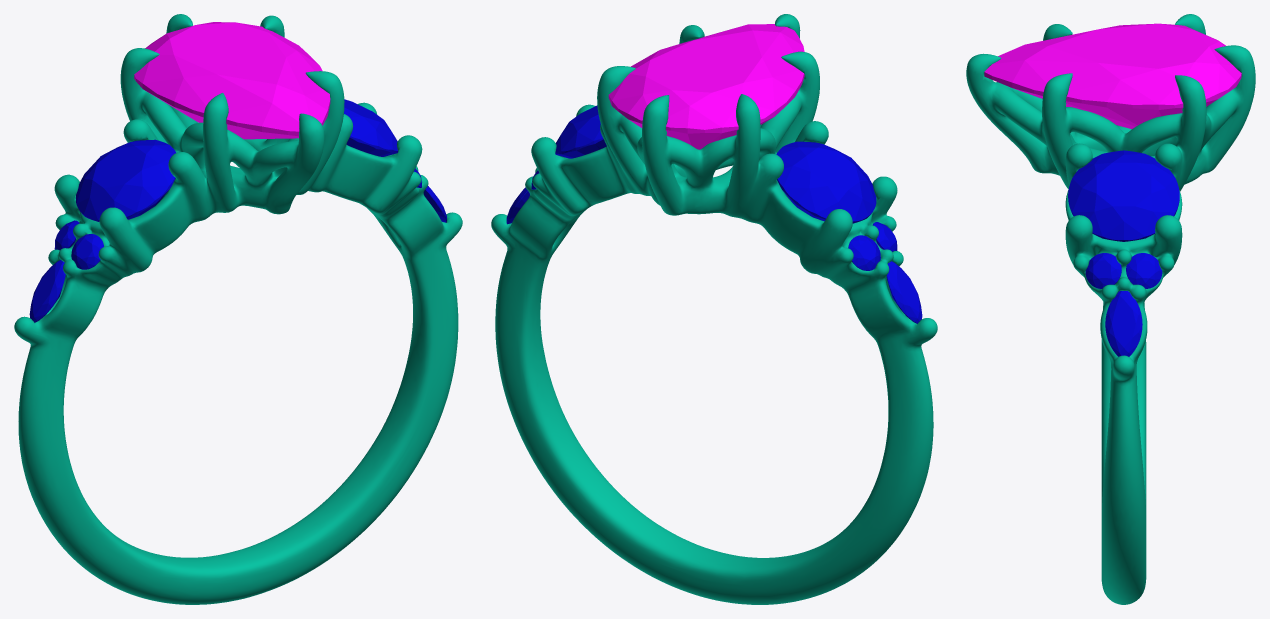
The model's file is BE1D974_PE_200ct_RENDER.glb.
The picture shows the model from 3 angles, left to right: view 1: azimuth 30°, elevation 25°; view 2: azimuth 150°, elevation 25°; view 3: azimuth 270°, elevation 25°; orthographic projection.
Visible parts, largest first — view 1: Metal 01, CS_Diamond_Pear, Diamond_Round_side.005, Diamond_Round_side, Diamond_Marquise_side.001, Diamond_Round_side.003; view 2: Metal 01, CS_Diamond_Pear, Diamond_Round_side.005, Diamond_Round_side, Diamond_Marquise_side.001, Diamond_Round_side.004; view 3: Metal 01, CS_Diamond_Pear, Diamond_Round_side, Diamond_Marquise_side, Diamond_Round_side.002, Diamond_Round_side.001.
Part boxes in pixels (left/top/right/bottom): Metal 01: left=14, top=14, right=462, bottom=604; CS_Diamond_Pear: left=134, top=22, right=330, bottom=139; Diamond_Round_side.005: left=75, top=139, right=176, bottom=221; Diamond_Round_side: left=344, top=99, right=398, bottom=156; Diamond_Marquise_side.001: left=29, top=260, right=65, bottom=322; Diamond_Round_side.003: left=71, top=234, right=103, bottom=269; Metal 01: left=491, top=14, right=937, bottom=604; CS_Diamond_Pear: left=608, top=24, right=804, bottom=149; Diamond_Round_side.005: left=776, top=141, right=876, bottom=223; Diamond_Round_side: left=555, top=105, right=606, bottom=158; Diamond_Marquise_side.001: left=886, top=261, right=922, bottom=323; Diamond_Round_side.004: left=848, top=235, right=880, bottom=270; Metal 01: left=966, top=14, right=1255, bottom=604; CS_Diamond_Pear: left=984, top=23, right=1241, bottom=129; Diamond_Round_side: left=1068, top=150, right=1179, bottom=241; Diamond_Marquise_side: left=1105, top=291, right=1142, bottom=356; Diamond_Round_side.002: left=1085, top=253, right=1121, bottom=288; Diamond_Round_side.001: left=1126, top=253, right=1162, bottom=288.
Size of the model in its own units: 20.52 by 23.81 by 11.66.
